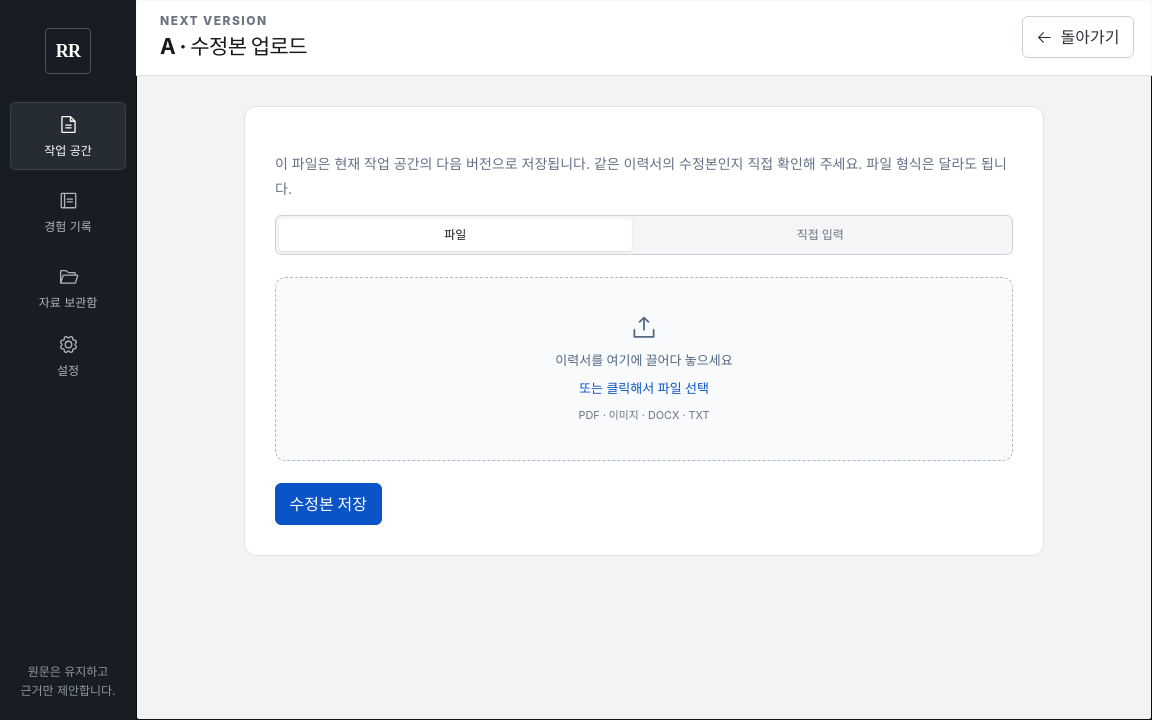
it: keeps a revision and the existing original when extraction fails
The width and height of the screenshot is (1152, 720).
Click the tab "직접 입력" at x=820, y=235, box left=632, top=219, right=1009, bottom=251
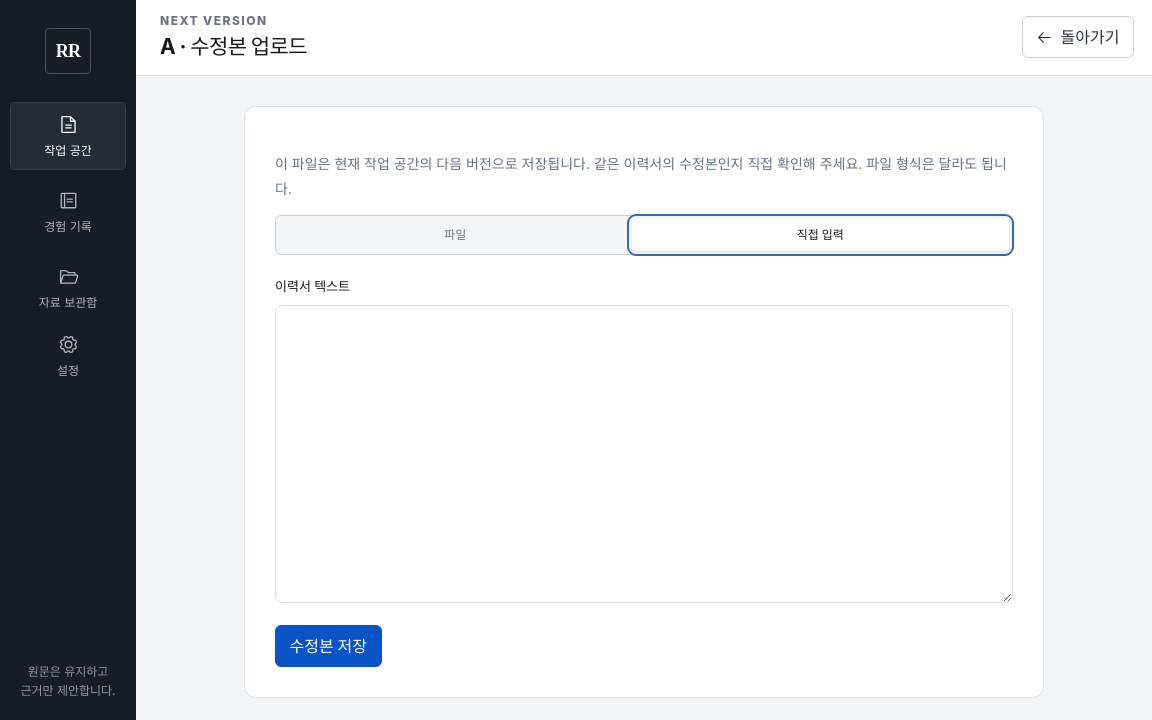
Type "새 수정본" into the text box labelled "이력서 텍스트" at x=644, y=454, box left=275, top=305, right=1013, bottom=602
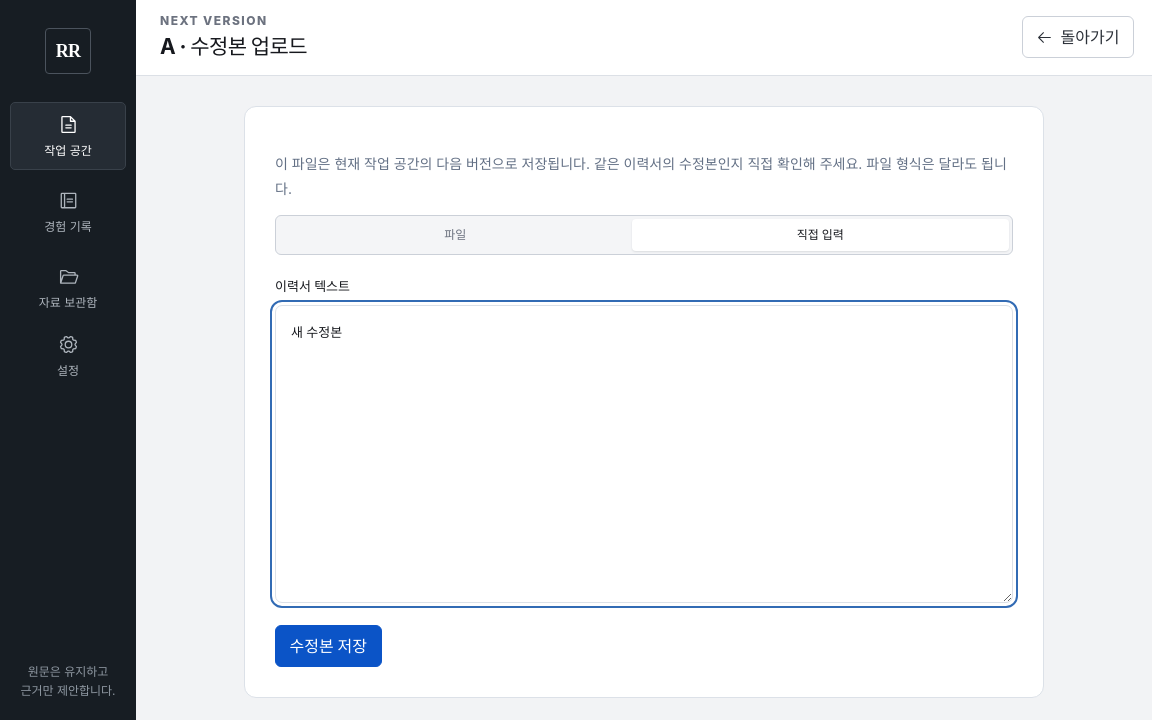
Click the button "수정본 저장" at x=328, y=646, box left=275, top=624, right=382, bottom=666
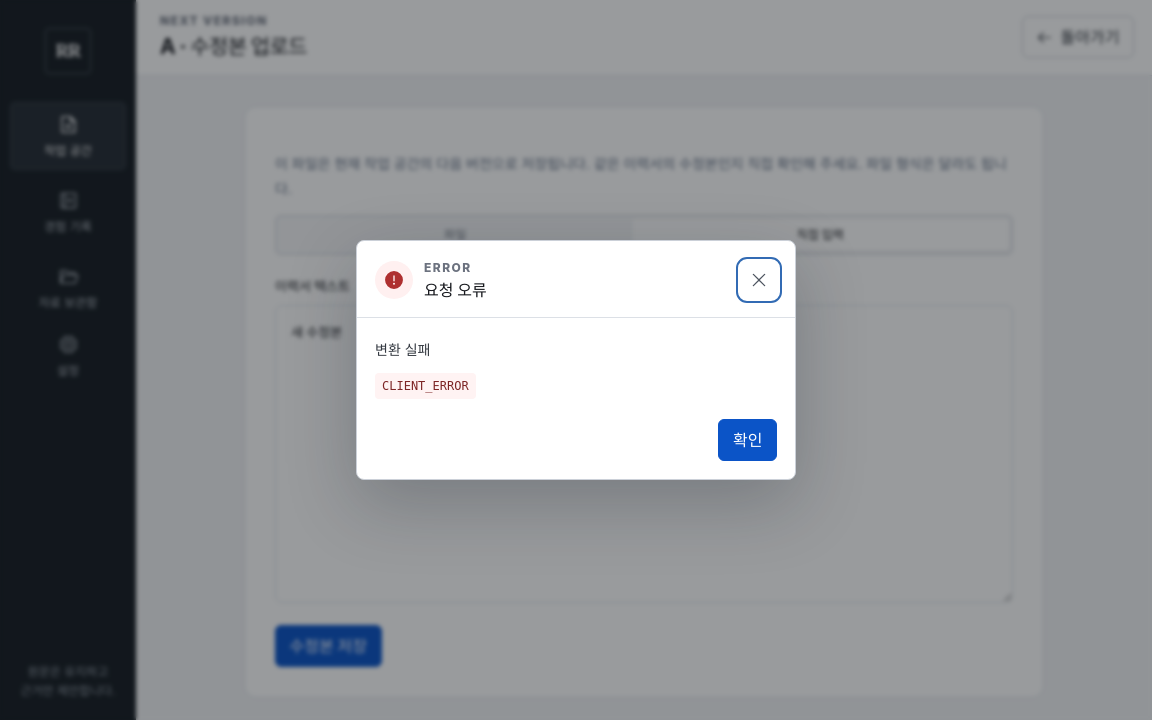
Check: the message reads "변환 실패", box left=375, top=341, right=430, bottom=358
